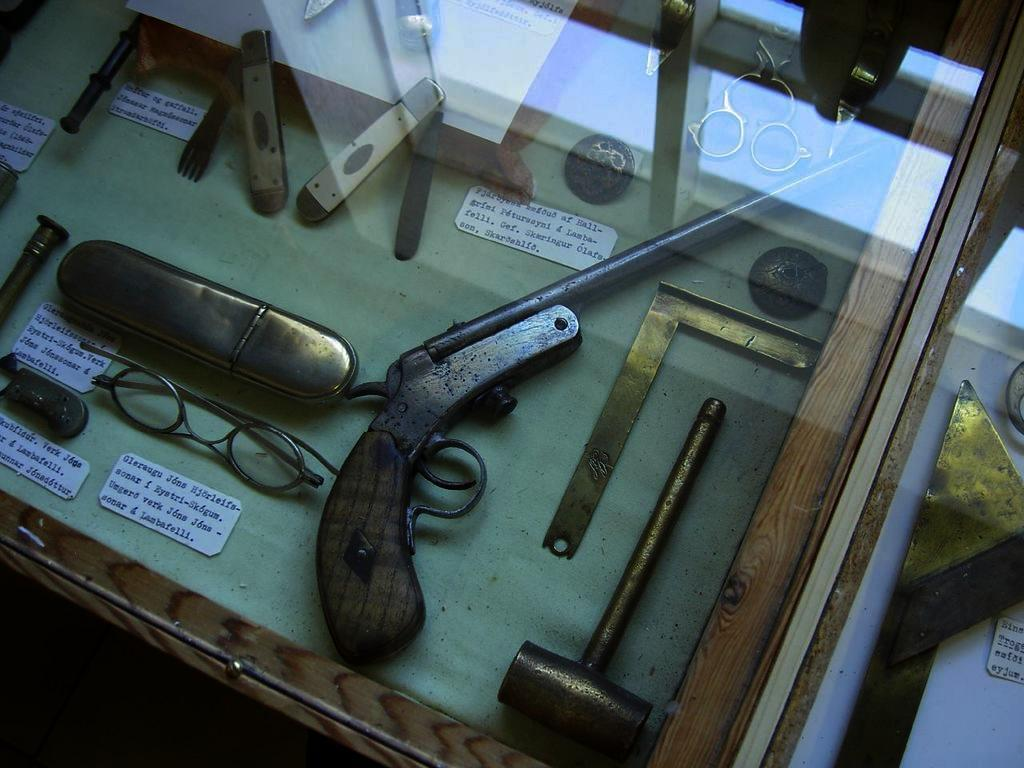gun: (316, 138, 890, 662)
